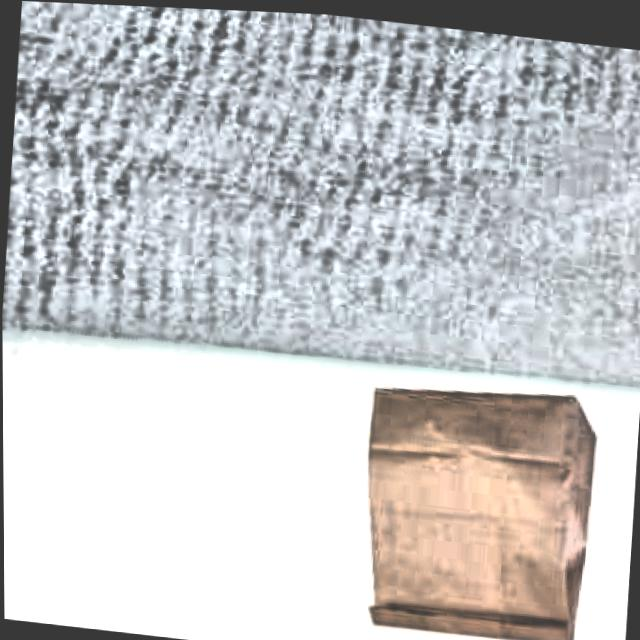Paper-bag: (344, 357, 616, 640)
